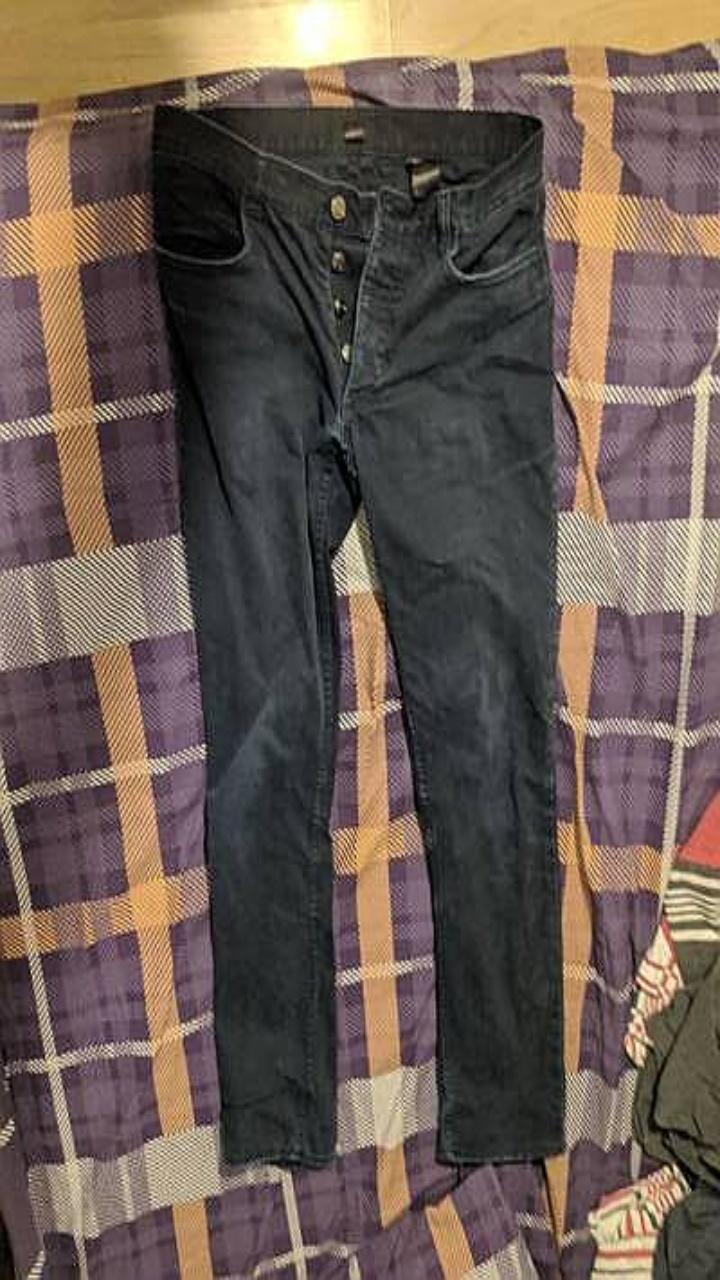Jeans: (153, 107, 562, 1165)
